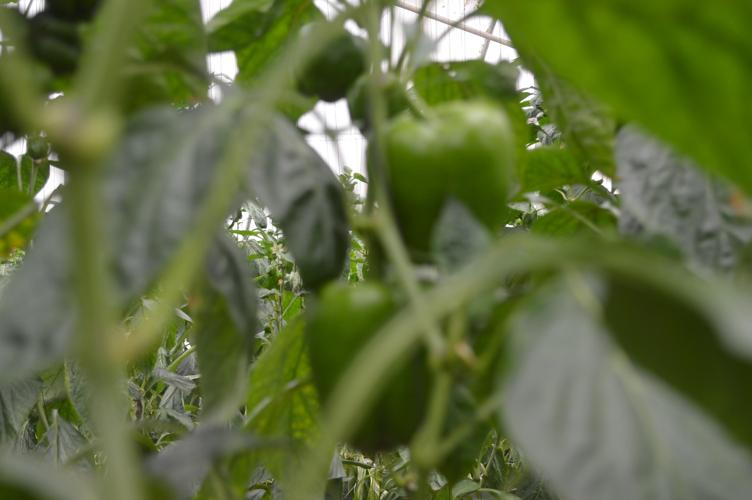BellPepper: (364, 87, 540, 234), (297, 280, 438, 448)
